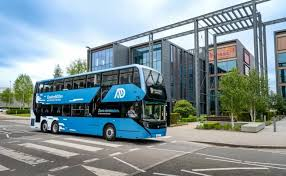bus: (30, 63, 170, 142)
